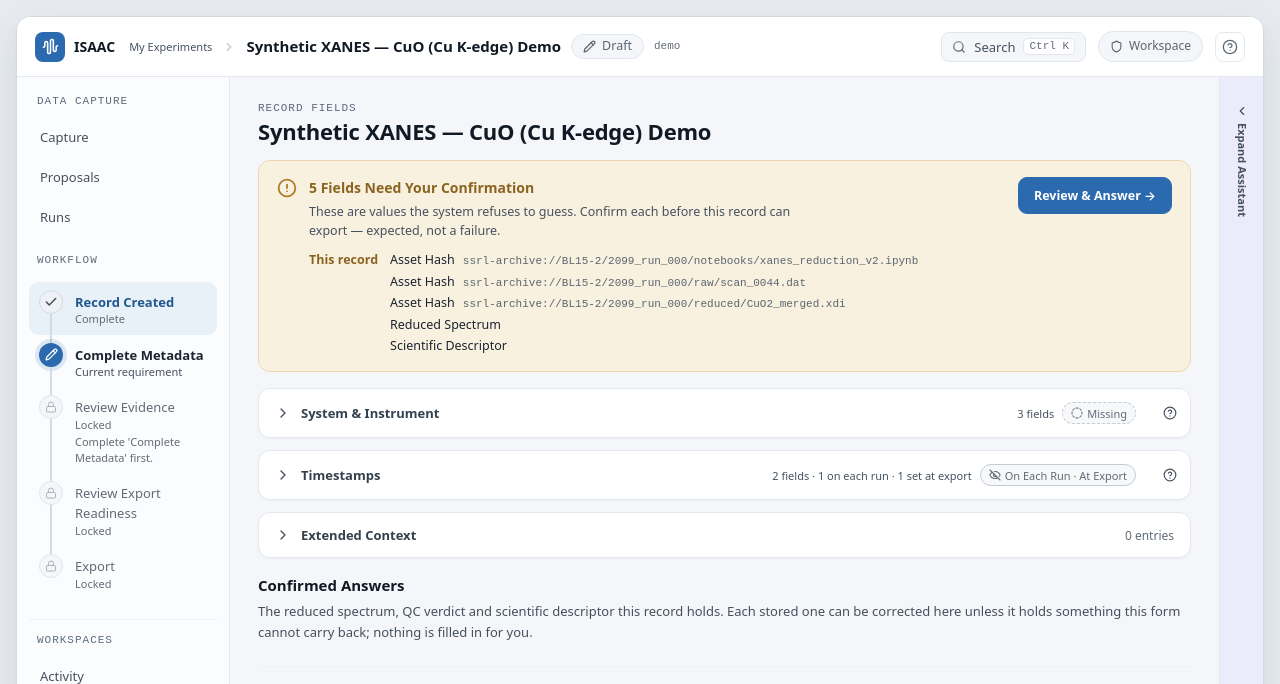
Test: a control is offered only where a record-level route accepts a value › offers NO input on a path whose only route is a RUN’s
Click the button "System & Instrument 3 fields Missing" at (370, 413), box [259,389,1152,437]
(page scrolled)
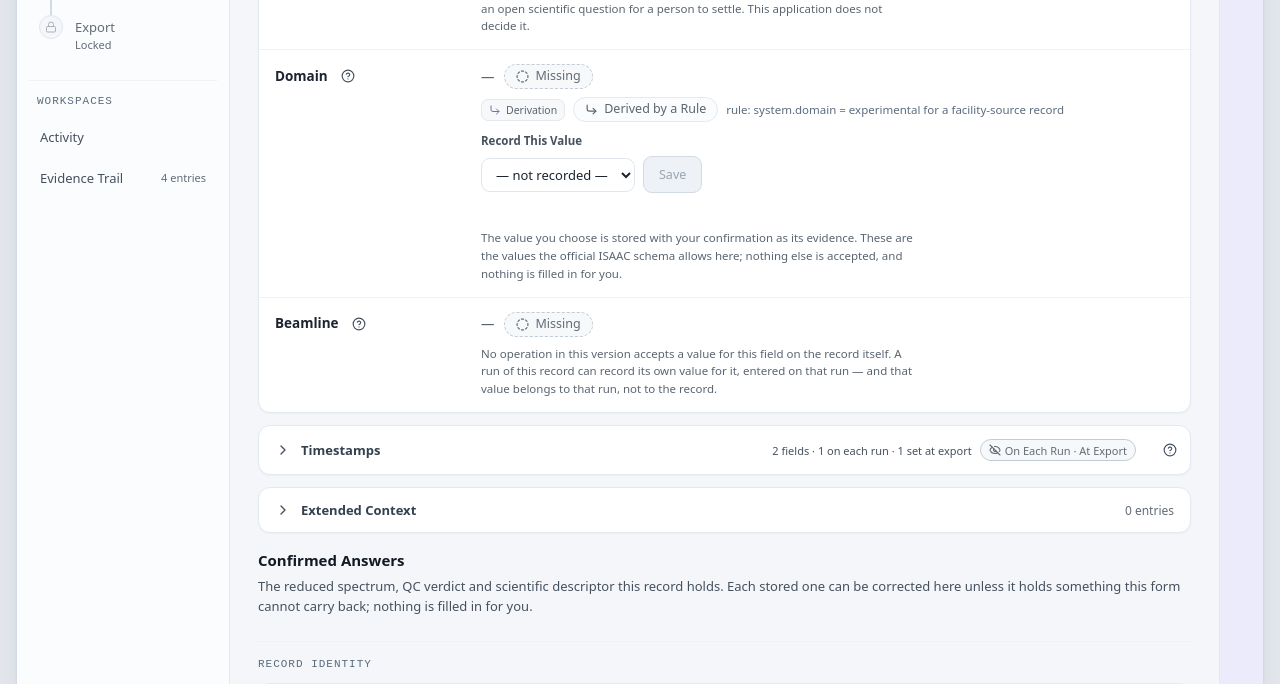
Click the button "Timestamps" at (341, 450), box [259,426,1152,474]
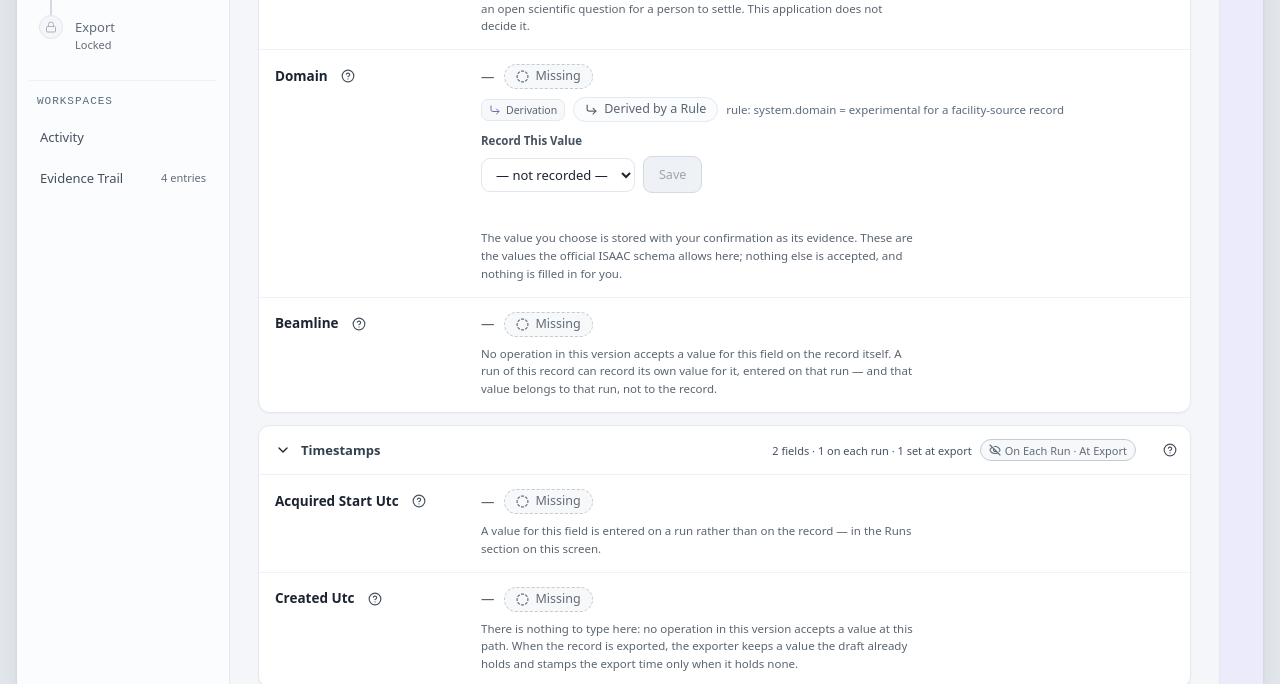
Check: the element with class "field-row" shows "run of this record", box [481,346,912,396]
Check: the element with class "field-row" shows "not to the record", box [481,346,912,396]
Check: the element with class "field-row" shows "Runs section", box [481,523,912,556]
